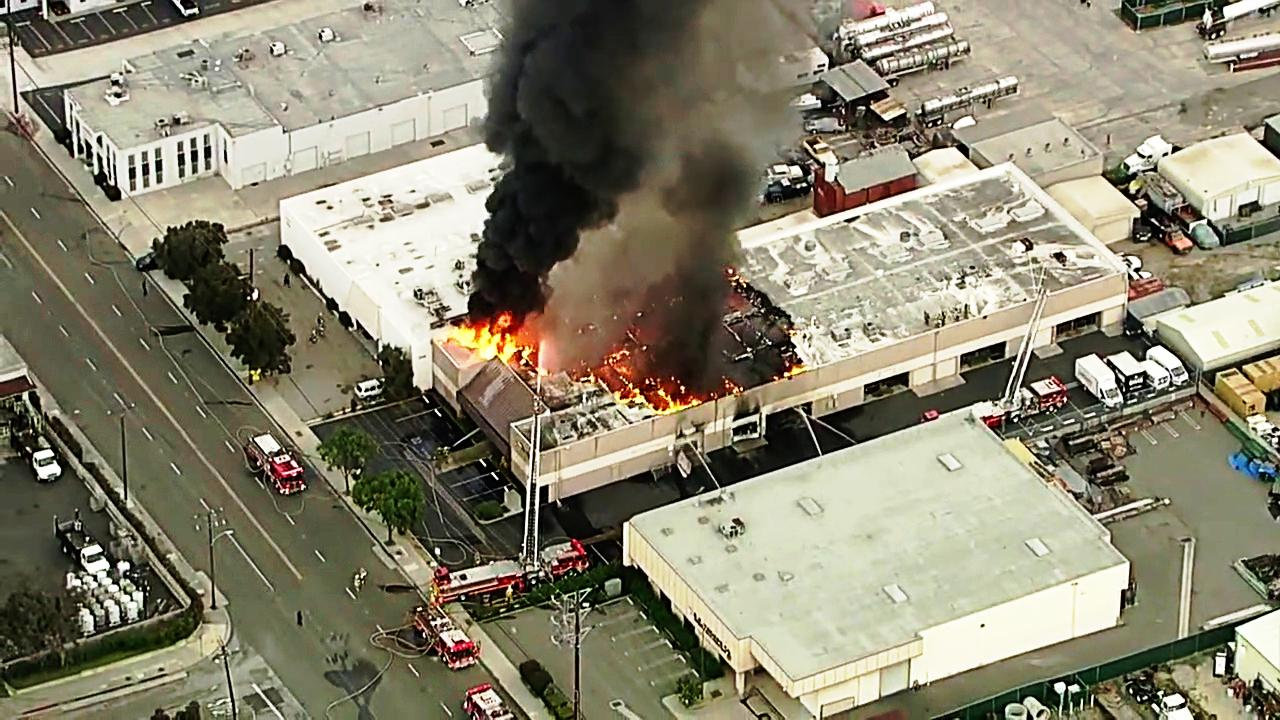fire: (455, 327, 529, 378)
smoke: (467, 35, 680, 300)
